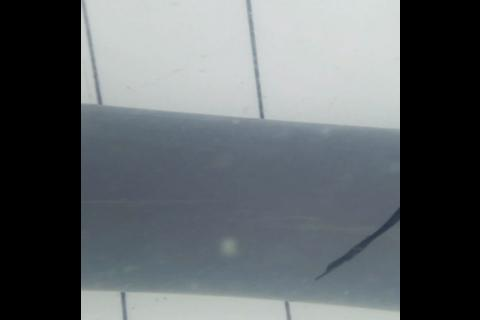keretakan: (309, 185, 400, 285)
